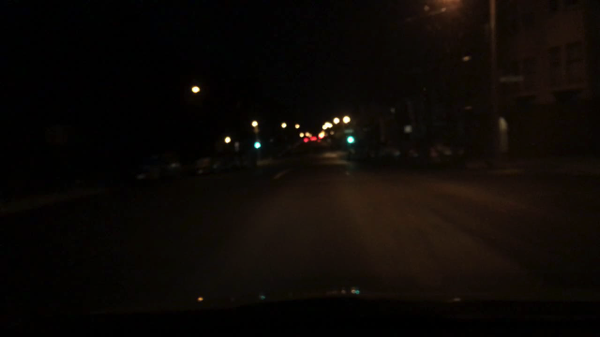car: (422, 139, 466, 168), (138, 161, 179, 180), (364, 144, 400, 162), (404, 144, 423, 167), (195, 159, 221, 174), (346, 144, 366, 158)
traffic light: (345, 136, 354, 145), (254, 141, 261, 150)
traffic sign: (501, 76, 523, 82), (344, 129, 355, 134)
